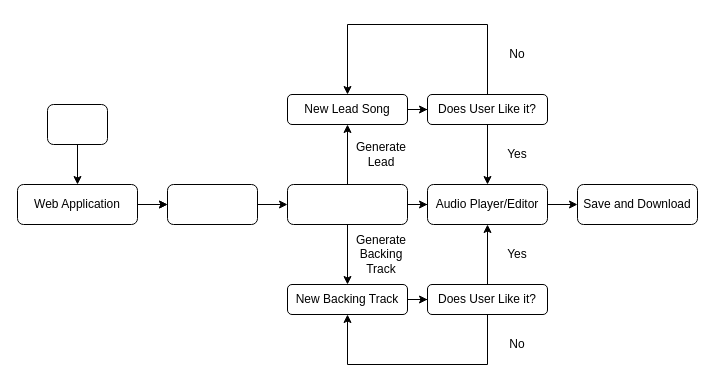
The diagram is 715 pixels wide and 390 high, and some of its shapes have lost their labels. The shapes that lost their labels are listed below. From the top down, each one's box as (x1, y1, x2, y2) in pixels, then its label:
(46, 104, 108, 144): User
(166, 184, 258, 224): Input Song
(286, 184, 408, 224): Noise Cancellation
